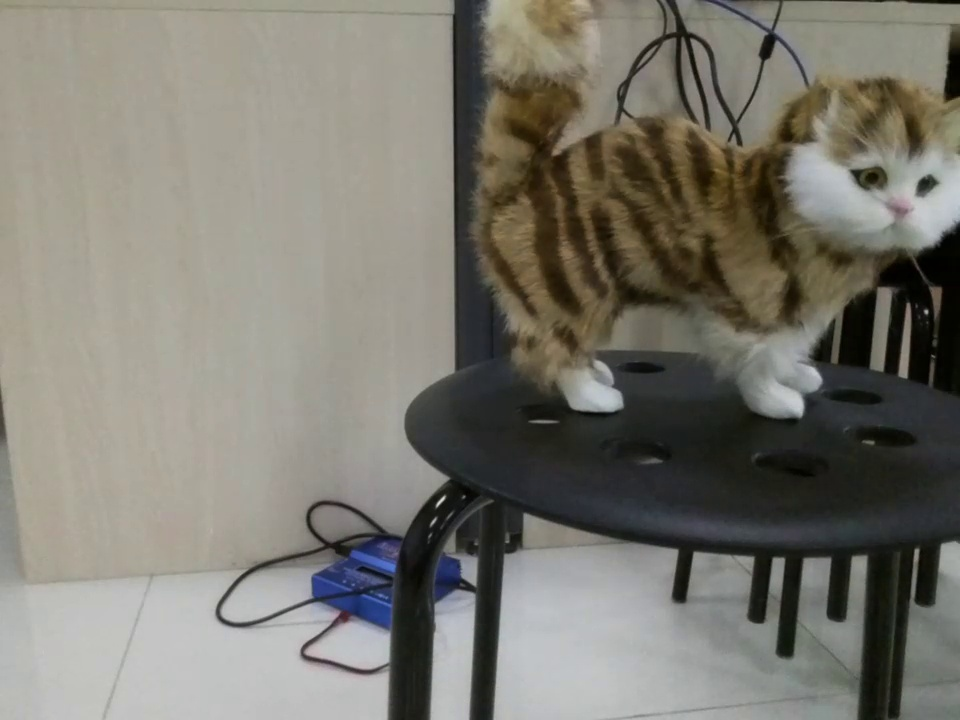cat: (479, 1, 958, 442)
